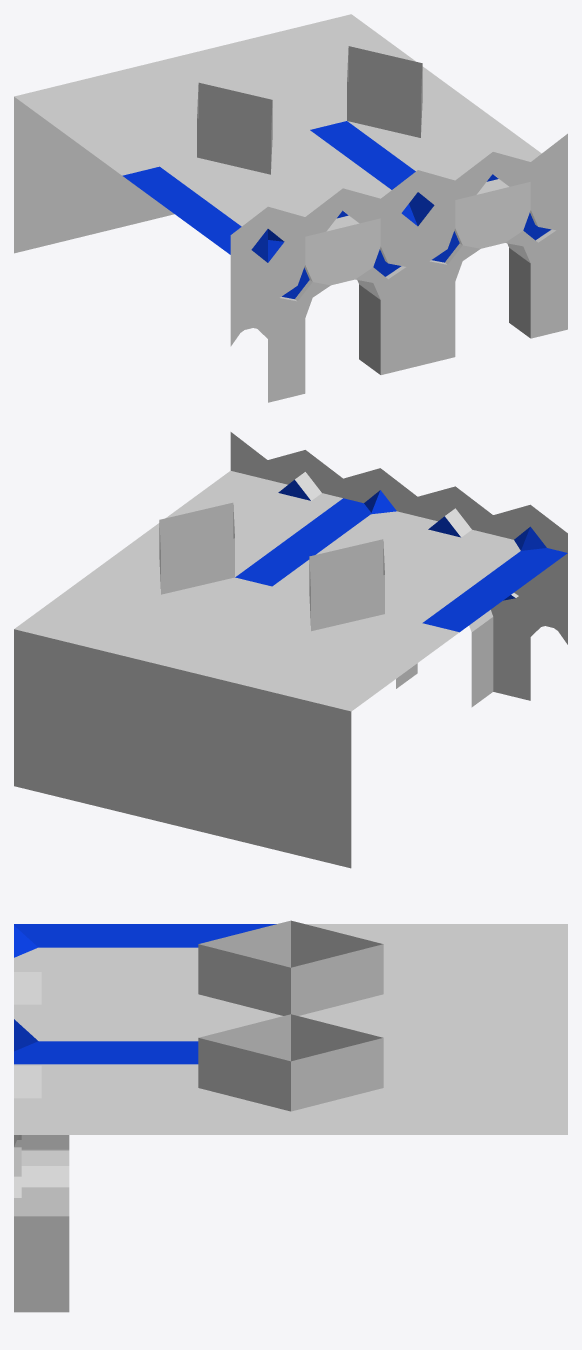
The model's file is SM_StadiumWall.fbx.
The picture shows the model from 3 angles, top to bottom: view 1: azimuth 30°, elevation 25°; view 2: azimuth 150°, elevation 25°; view 3: azimuth 270°, elevation 25°; orthographic projection. The views are drawn at different scales.
Parts seen in each view (by area): view 1: StadiumWall; view 2: StadiumWall; view 3: StadiumWall.
Part boxes in pixels (x1=…): StadiumWall: x1=14, y1=14, x2=567, y2=402; StadiumWall: x1=14, y1=432, x2=567, y2=868; StadiumWall: x1=14, y1=920, x2=567, y2=1312.
Bounding box in the file's own units: 1800 × 1000 × 2000.
